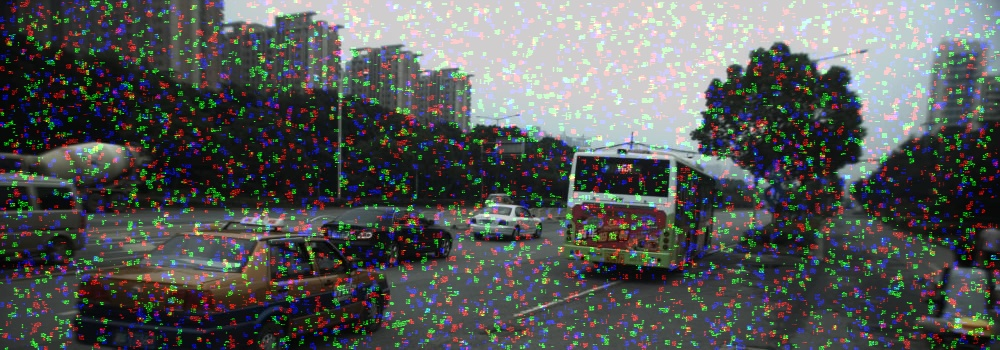Informative Signs: (763, 163, 787, 186), (763, 185, 788, 207)
